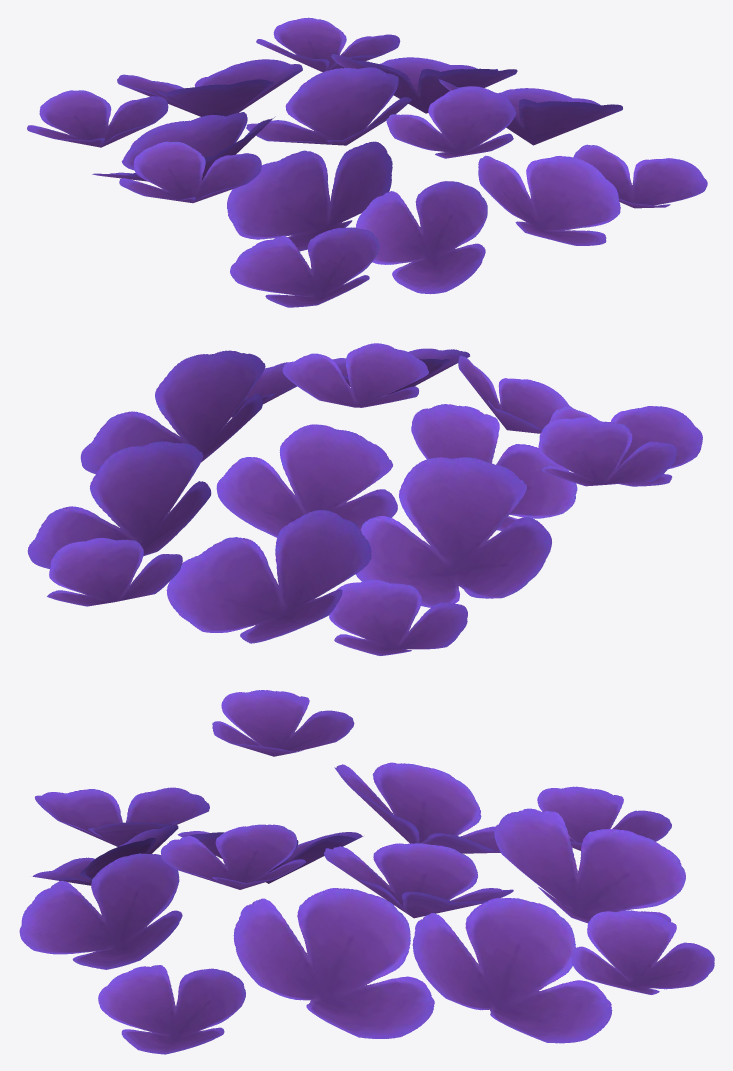
File: Plant_7_Big.gltf
3 views of the same model, one above another, from view 1: azimuth 30°, elevation 25°; view 2: azimuth 150°, elevation 25°; view 3: azimuth 270°, elevation 25° (orthographic). The views are drawn at different scales.
Parts seen in each view (by area): view 1: Plant_7_Big; view 2: Plant_7_Big; view 3: Plant_7_Big.
Part boxes in pixels (<box>): Plant_7_Big: <box>27,17,707,307</box>; Plant_7_Big: <box>27,343,702,655</box>; Plant_7_Big: <box>19,690,714,1054</box>.
Size of the model in its own units: 1.31 by 0.2534 by 1.36.
Materials: 1 (1 with a texture image).
